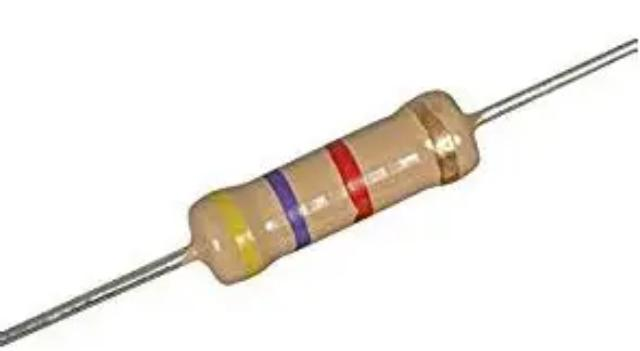gold: (392, 89, 469, 192)
red: (314, 123, 386, 233)
resistor: (136, 45, 511, 330)
violet: (254, 157, 323, 258)
yellow: (197, 173, 274, 286)
